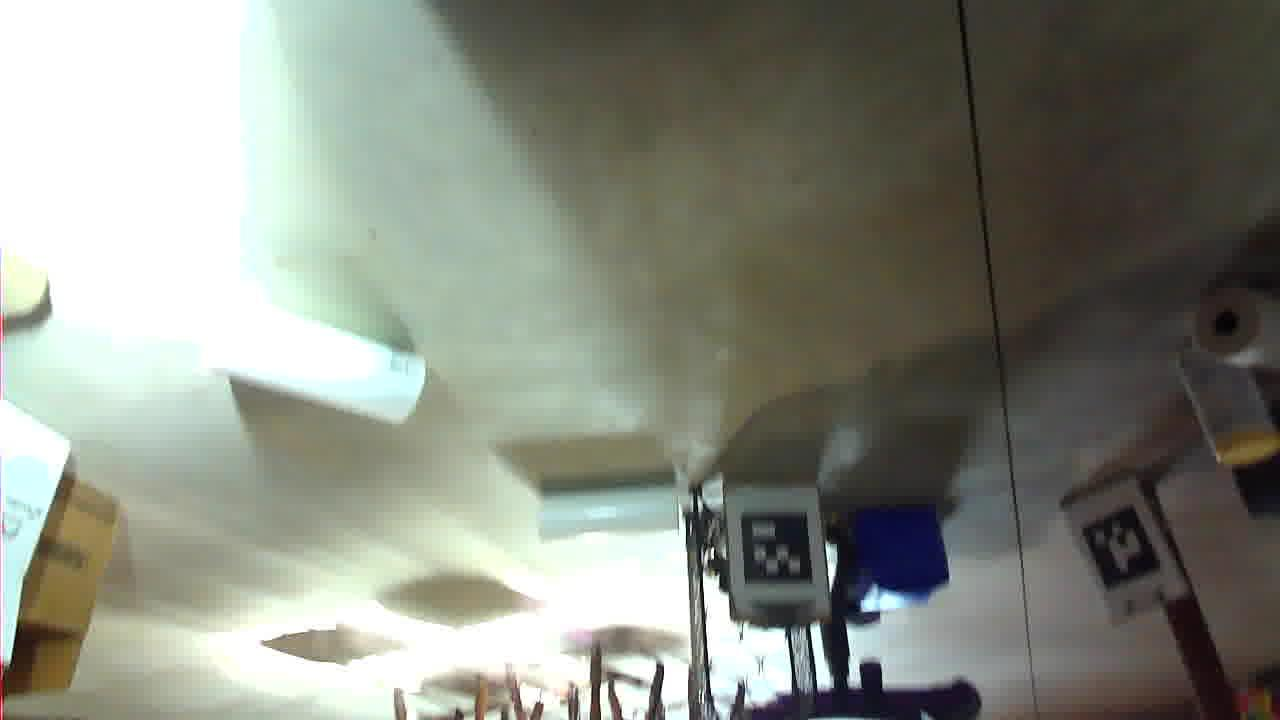coral: (601, 174, 743, 235)
